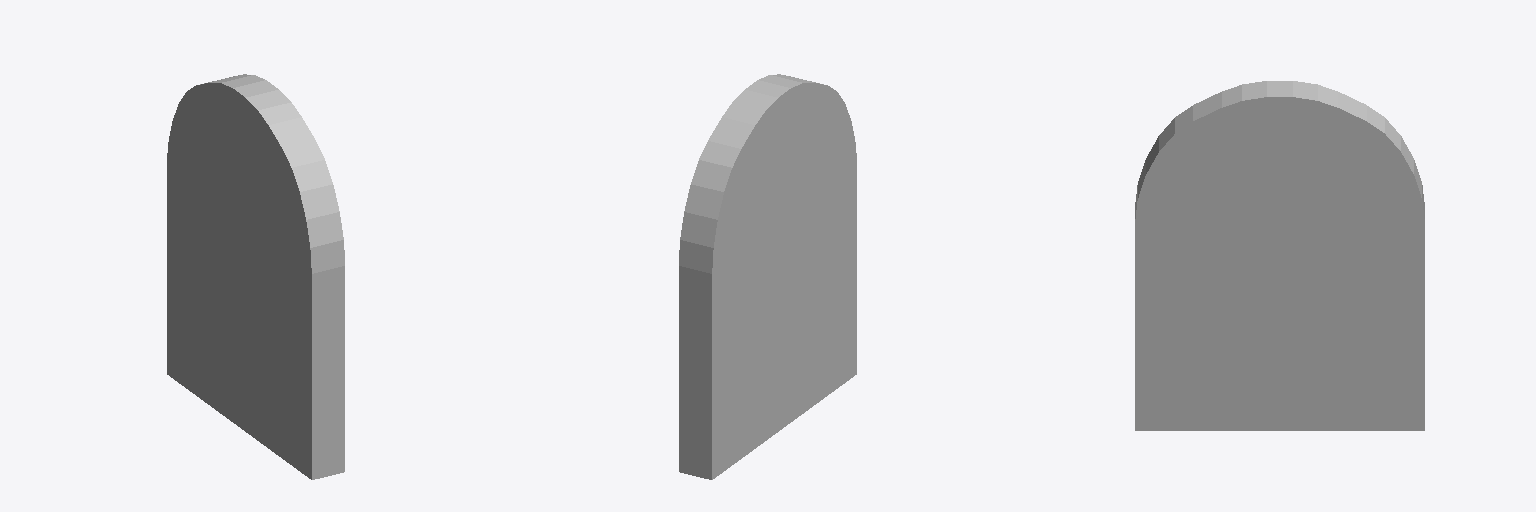
File: RIP1.obj
3 views of the same model, side by side, from view 1: azimuth 30°, elevation 25°; view 2: azimuth 150°, elevation 25°; view 3: azimuth 270°, elevation 25° (orthographic).
Parts seen in each view (by area): view 1: Cube_Cube.001; view 2: Cube_Cube.001; view 3: Cube_Cube.001.
Boxes of the visible parts, <box> form: Cube_Cube.001: <box>167,74,344,479</box>; Cube_Cube.001: <box>679,74,856,479</box>; Cube_Cube.001: <box>1135,81,1424,430</box>.
Size of the model in its own units: 0.2 by 1.91 by 1.5.